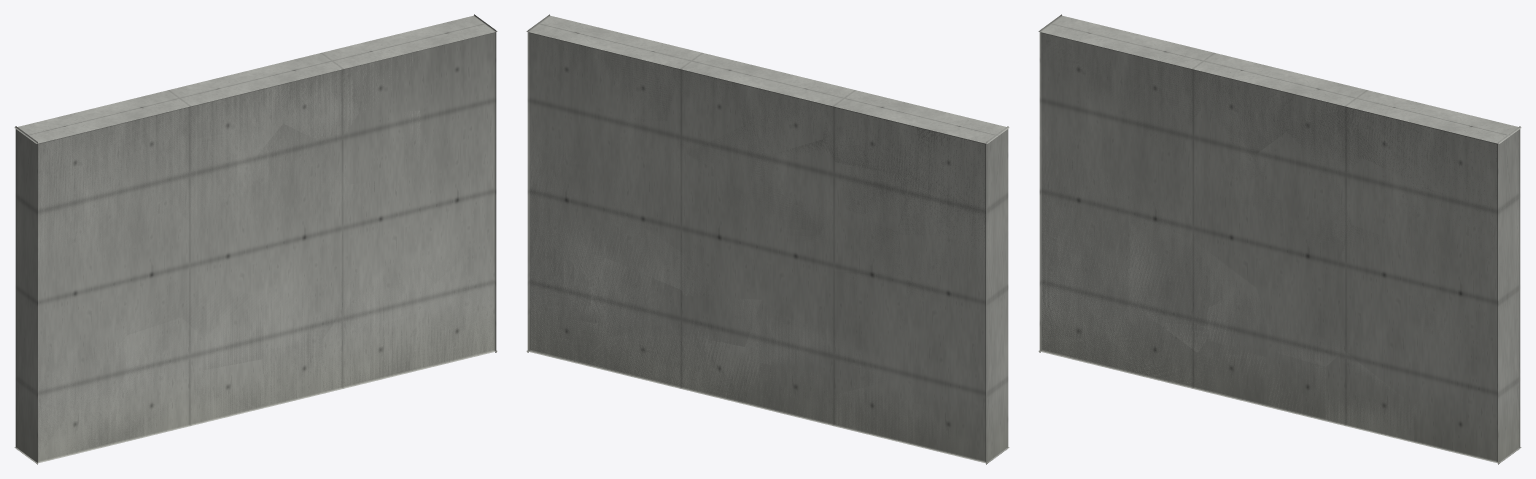
The model's file is concrete_wall_fractured.glb.
The picture shows the model from 3 angles, left to right: view 1: azimuth 30°, elevation 25°; view 2: azimuth 150°, elevation 25°; view 3: azimuth 330°, elevation 25°; orthographic projection.
Parts seen in each view (by area): view 1: IntactConcreteWall, Chunk_12, Chunk_30, Chunk_32, Chunk_31, Chunk_06, Chunk_24, Chunk_18, Chunk_33, Chunk_19, Chunk_26, Chunk_20 (+21 smaller); view 2: IntactConcreteWall, Chunk_31, Chunk_34, Chunk_32, Chunk_35, Chunk_33, Chunk_30, Chunk_18, Chunk_29, Chunk_10, Chunk_04, Chunk_26 (+25 smaller); view 3: IntactConcreteWall, Chunk_32, Chunk_31, Chunk_35, Chunk_12, Chunk_34, Chunk_33, Chunk_28, Chunk_06, Chunk_23, Chunk_30, Chunk_10 (+25 smaller).
Part boxes in pixels (bbox=[...]): IntactConcreteWall: bbox=[14, 14, 497, 464]; Chunk_12: bbox=[16, 270, 126, 360]; Chunk_30: bbox=[16, 111, 109, 218]; Chunk_32: bbox=[176, 66, 290, 159]; Chunk_31: bbox=[87, 89, 197, 175]; Chunk_06: bbox=[16, 341, 126, 416]; Chunk_24: bbox=[16, 165, 129, 243]; Chunk_18: bbox=[16, 221, 122, 302]; Chunk_33: bbox=[270, 53, 358, 144]; Chunk_19: bbox=[119, 210, 205, 280]; Chunk_26: bbox=[177, 143, 256, 232]; Chunk_20: bbox=[203, 180, 281, 265]; IntactConcreteWall: bbox=[526, 14, 1009, 464]; Chunk_31: bbox=[823, 90, 933, 177]; Chunk_34: bbox=[593, 32, 694, 120]; Chunk_32: bbox=[735, 66, 850, 155]; Chunk_35: bbox=[530, 16, 614, 107]; Chunk_33: bbox=[667, 52, 750, 152]; Chunk_30: bbox=[917, 110, 1005, 215]; Chunk_18: bbox=[898, 235, 987, 310]; Chunk_29: bbox=[530, 98, 611, 165]; Chunk_10: bbox=[588, 258, 683, 335]; Chunk_04: bbox=[614, 315, 700, 390]; Chunk_26: bbox=[765, 140, 845, 231]; IntactConcreteWall: bbox=[1038, 14, 1521, 464]; Chunk_32: bbox=[1196, 56, 1312, 152]; Chunk_31: bbox=[1108, 33, 1220, 122]; Chunk_35: bbox=[1424, 112, 1517, 213]; Chunk_12: bbox=[1042, 191, 1130, 271]; Chunk_34: bbox=[1353, 91, 1454, 185]; Chunk_33: bbox=[1286, 77, 1368, 182]; Chunk_28: bbox=[1338, 158, 1424, 245]; Chunk_06: bbox=[1042, 249, 1130, 332]; Chunk_23: bbox=[1408, 228, 1503, 312]; Chunk_30: bbox=[1042, 16, 1130, 106]; Chunk_10: bbox=[1344, 324, 1438, 404].
Size of the model in its own units: 3.62 by 2.42 by 0.304.
1 material, 1 textured.
